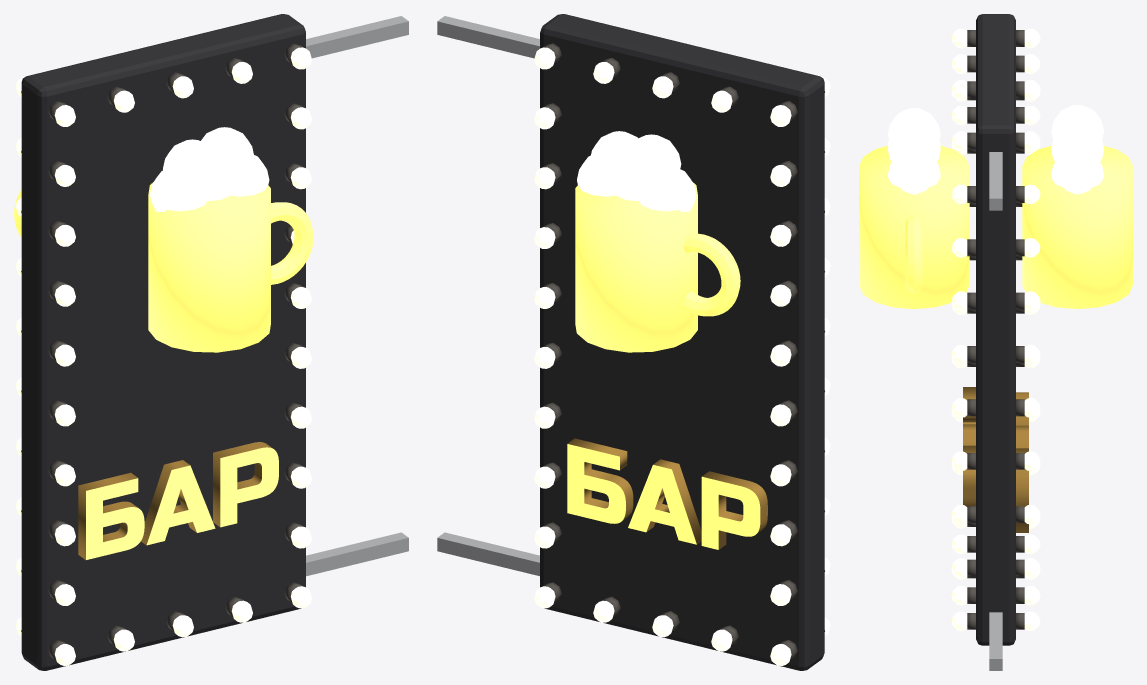
The model's file is blade_bar.glb.
3 views of the same model, side by side, from view 1: azimuth 30°, elevation 25°; view 2: azimuth 150°, elevation 25°; view 3: azimuth 270°, elevation 25° (orthographic). The views are drawn at different scales.
Parts seen in each view (by area): view 1: Sign, BulbsB, BulbsA; view 2: Sign, BulbsB, BulbsA; view 3: Sign, BulbsB, BulbsA.
Part boxes in pixels (x1=…): Sign: x1=14, y1=14, x2=408, y2=670; BulbsB: x1=15, y1=47, x2=311, y2=651; BulbsA: x1=15, y1=62, x2=311, y2=665; Sign: x1=437, y1=14, x2=825, y2=670; BulbsB: x1=534, y1=47, x2=830, y2=651; BulbsA: x1=534, y1=62, x2=830, y2=665; Sign: x1=859, y1=14, x2=1132, y2=670; BulbsB: x1=951, y1=28, x2=1040, y2=605; BulbsA: x1=951, y1=54, x2=1040, y2=631.
Size of the model in its own units: 1.75 by 2.6 by 1.24.
